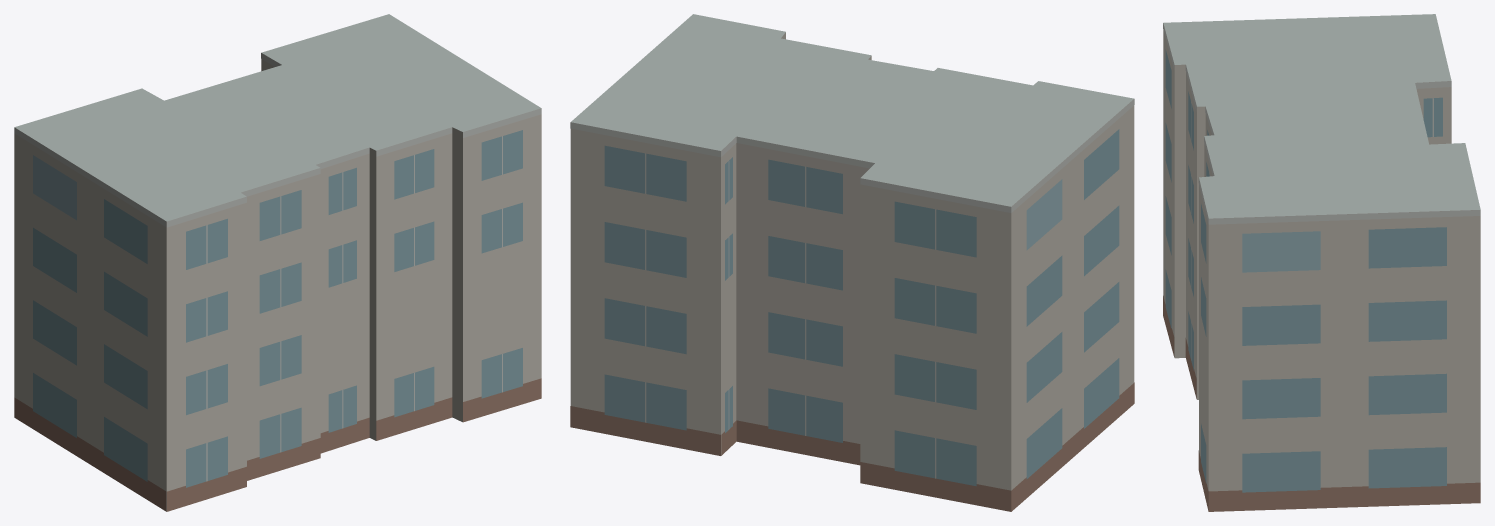
Rendered from survey-upis-32750148.glb.
The picture shows the model from 3 angles, left to right: view 1: azimuth 30°, elevation 25°; view 2: azimuth 150°, elevation 25°; view 3: azimuth 270°, elevation 25°; orthographic projection. The views are drawn at different scales.
Visible parts, largest first — view 1: survey-upis-32750148.tmp; view 2: survey-upis-32750148.tmp; view 3: survey-upis-32750148.tmp.
Part boxes in pixels (x1=…): survey-upis-32750148.tmp: x1=14, y1=14, x2=541, y2=511; survey-upis-32750148.tmp: x1=570, y1=14, x2=1134, y2=511; survey-upis-32750148.tmp: x1=1163, y1=14, x2=1480, y2=511.
Size of the model in its own units: 17.51 by 11.7 by 11.49.
